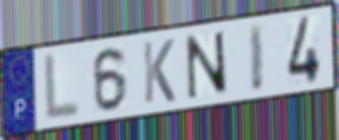4: (285, 14, 323, 87)
6: (91, 45, 130, 114)
I: (247, 20, 266, 95)
K: (140, 37, 178, 106)
L: (43, 50, 83, 124)
N: (183, 30, 231, 102)
